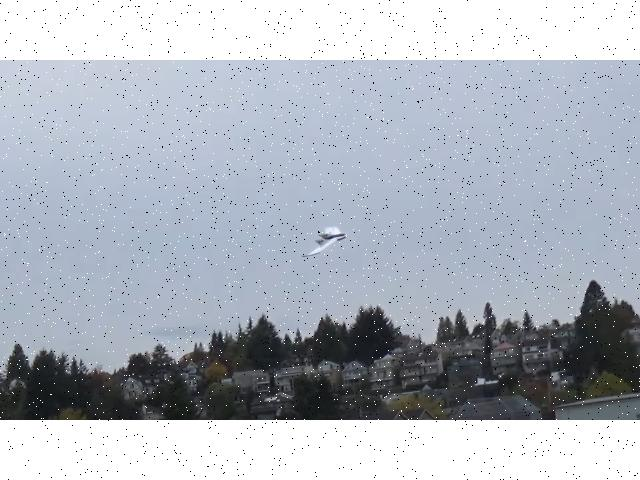Anti-Drone: (303, 227, 347, 257)
